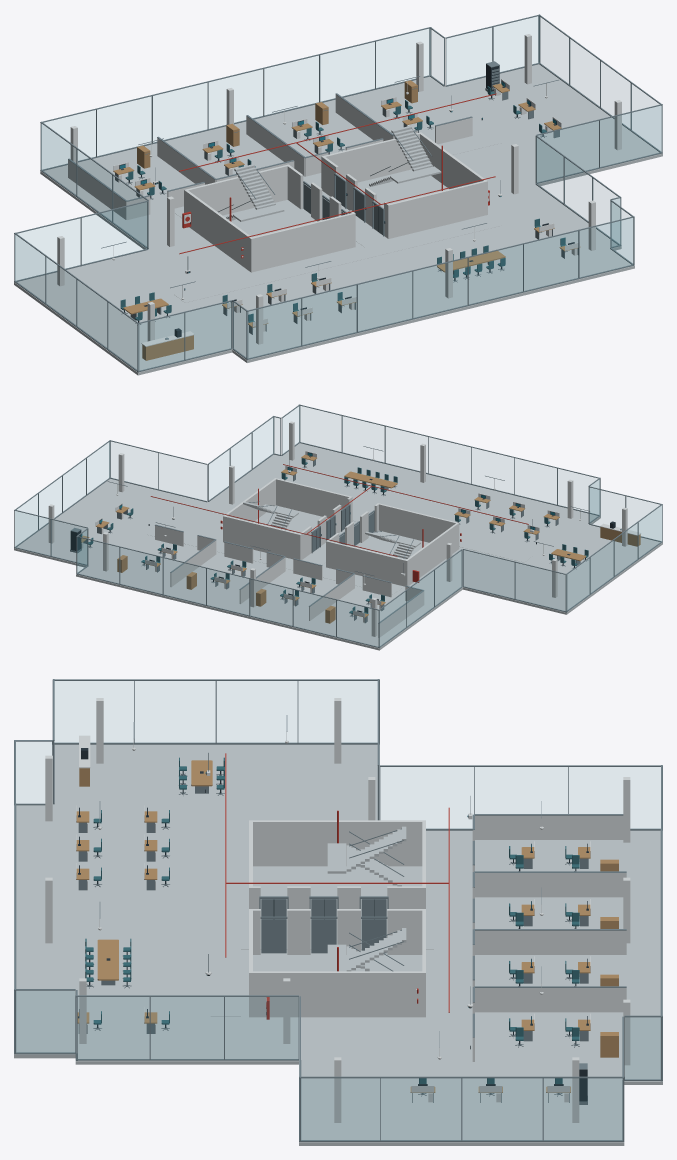
3 views of the same model, one above another, from view 1: azimuth 30°, elevation 25°; view 2: azimuth 150°, elevation 25°; view 3: azimuth 270°, elevation 25° (orthographic). The views are drawn at different scales.
Parts seen in each view (by area): view 1: T1_F09_SLAB, T1_F09_WHITE, T1_F09_GLASS_S, T1_F09_GLASS_N, T1_F09_STEEL, T1_F09_GLASS_W, T1_F09_GLASS_E, T1_F09_WOOD, T1_F09_FABRIC, T1_F09_RED, T1_F09_DARK; view 2: T1_F09_SLAB, T1_F09_WHITE, T1_F09_GLASS_N, T1_F09_GLASS_S, T1_F09_STEEL, T1_F09_GLASS_W, T1_F09_GLASS_E, T1_F09_WOOD, T1_F09_FABRIC, T1_F09_RED, T1_F09_DARK; view 3: T1_F09_SLAB, T1_F09_WHITE, T1_F09_GLASS_E, T1_F09_GLASS_W, T1_F09_STEEL, T1_F09_WOOD, T1_F09_FABRIC, T1_F09_RED, T1_F09_DARK.
Boxes of the visible parts, x1,y1,x2,y2 form: T1_F09_SLAB: (14, 64, 662, 375); T1_F09_WHITE: (57, 34, 621, 346); T1_F09_GLASS_S: (140, 106, 660, 370); T1_F09_GLASS_N: (19, 17, 538, 267); T1_F09_STEEL: (14, 14, 662, 372); T1_F09_GLASS_W: (15, 125, 245, 369); T1_F09_GLASS_E: (431, 18, 657, 243); T1_F09_WOOD: (113, 80, 580, 360); T1_F09_FABRIC: (120, 86, 566, 322); T1_F09_RED: (179, 93, 496, 258); T1_F09_DARK: (119, 64, 574, 337); T1_F09_SLAB: (14, 443, 662, 650); T1_F09_WHITE: (48, 421, 641, 637); T1_F09_GLASS_N: (15, 512, 564, 646); T1_F09_GLASS_S: (110, 406, 657, 527); T1_F09_STEEL: (14, 404, 662, 648); T1_F09_GLASS_W: (380, 480, 661, 645); T1_F09_GLASS_E: (18, 408, 298, 536); T1_F09_WOOD: (81, 455, 640, 623); T1_F09_FABRIC: (88, 458, 588, 613); T1_F09_RED: (150, 464, 528, 582); T1_F09_DARK: (70, 452, 615, 615); T1_F09_SLAB: (14, 744, 662, 1145); T1_F09_WHITE: (45, 698, 630, 1122); T1_F09_GLASS_E: (16, 991, 660, 1139); T1_F09_GLASS_W: (16, 681, 660, 828); T1_F09_STEEL: (14, 679, 662, 1141); T1_F09_WOOD: (76, 760, 618, 1092); T1_F09_FABRIC: (85, 757, 579, 1083); T1_F09_RED: (225, 753, 449, 1019); T1_F09_DARK: (78, 748, 588, 1101).
Bounding box in the file's own units: 55.47 × 4.5 × 38.19.
